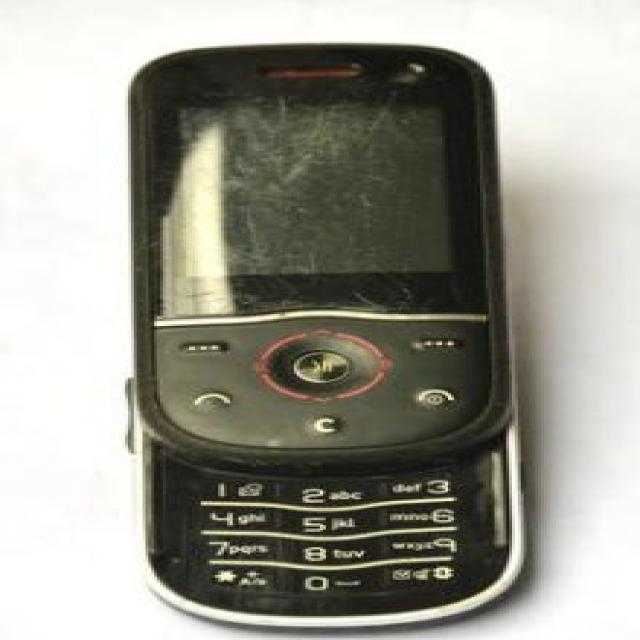electronic: (125, 41, 530, 630)
